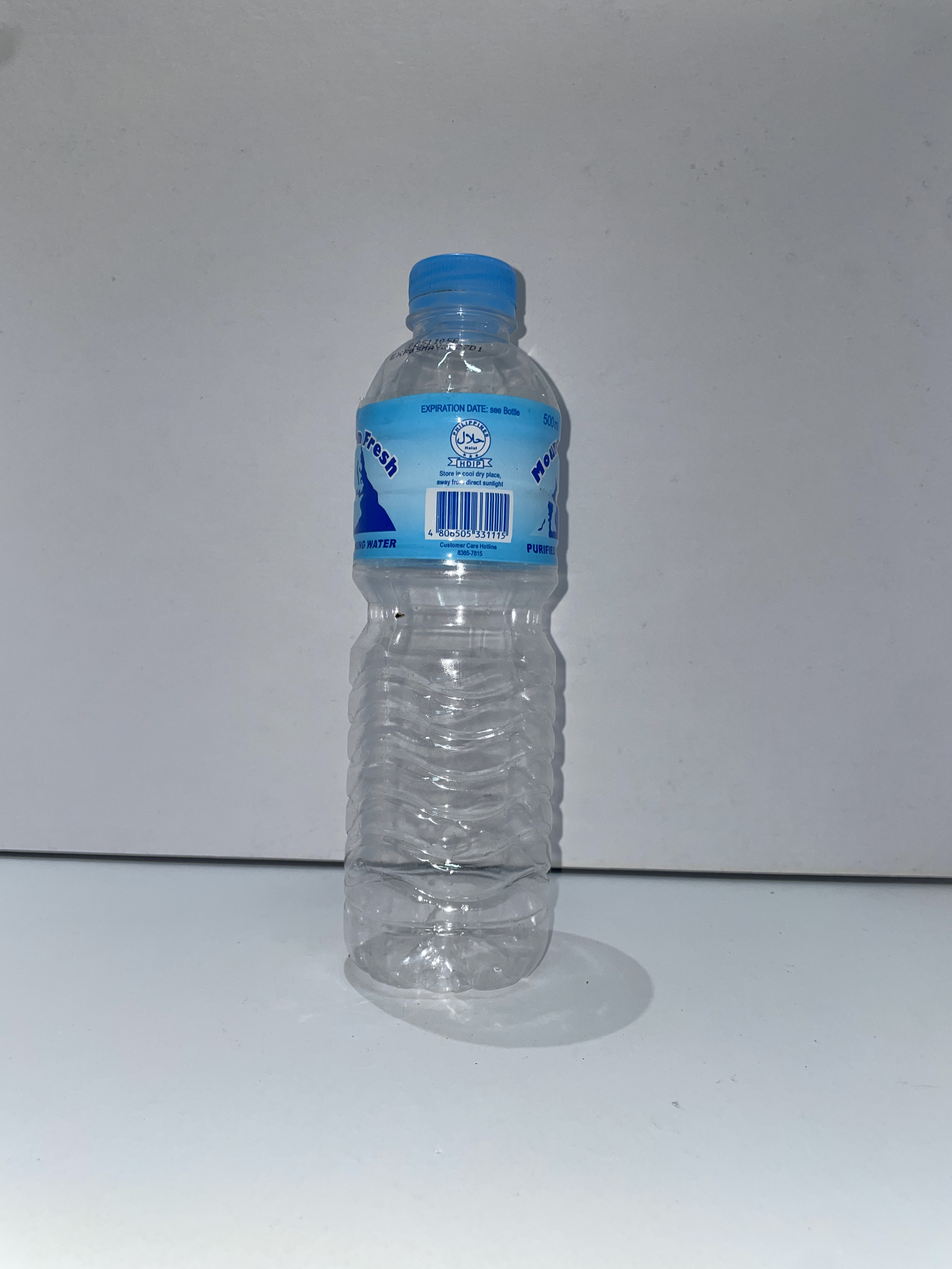Mountain Fresh 500ml: (344, 254, 564, 992)
